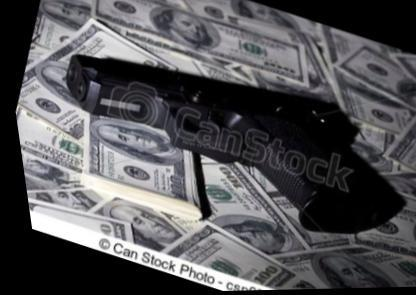pistol: (29, 12, 415, 262)
